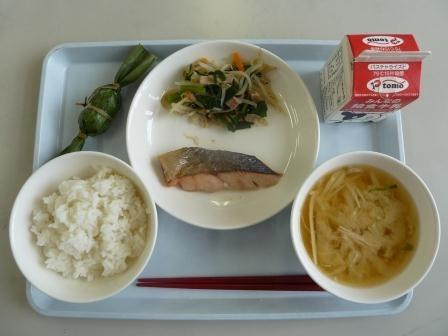Fish: (151, 141, 282, 201)
Milk: (313, 29, 430, 134)
Rice: (16, 154, 160, 289)
Soups: (295, 151, 441, 304)
salad with sauce: (164, 47, 287, 127)
